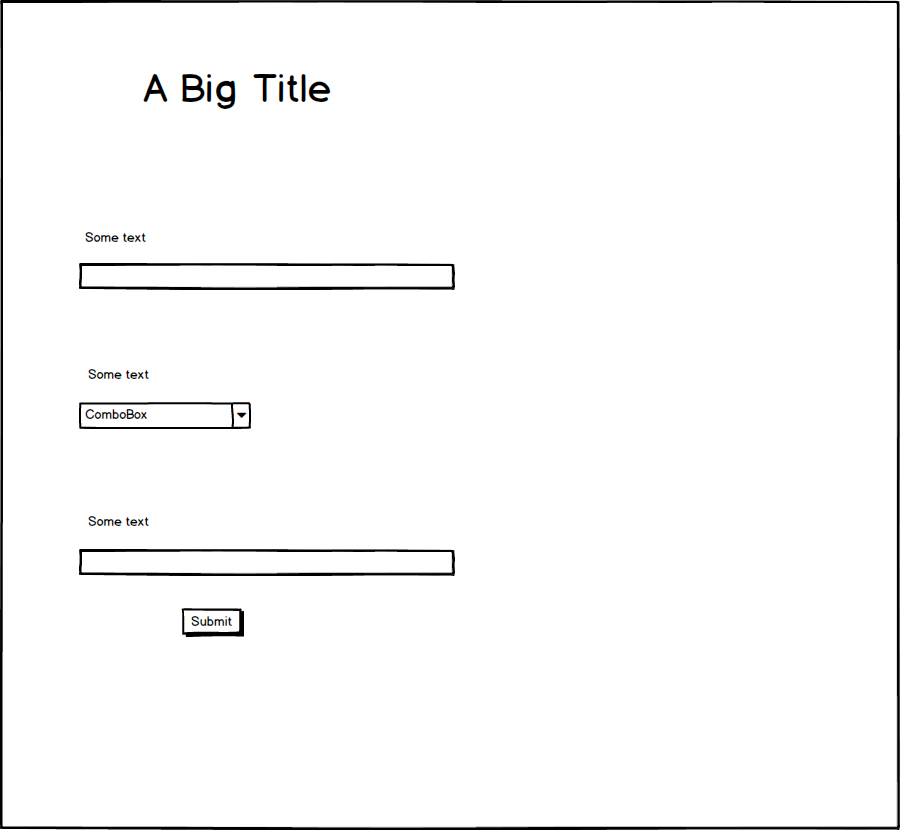button: (171, 600, 260, 643)
h1: (139, 62, 342, 111)
input: (73, 544, 464, 582), (74, 261, 465, 297)
label: (82, 507, 159, 534), (78, 221, 151, 249), (83, 363, 159, 388)
select_box: (77, 400, 259, 431)
